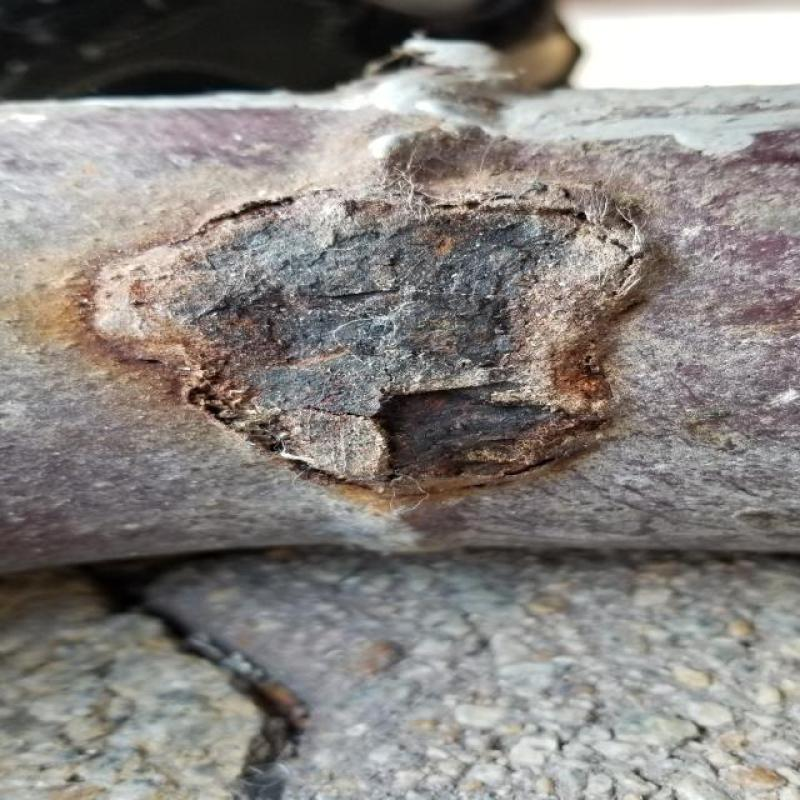corrosion: (105, 167, 675, 488)
